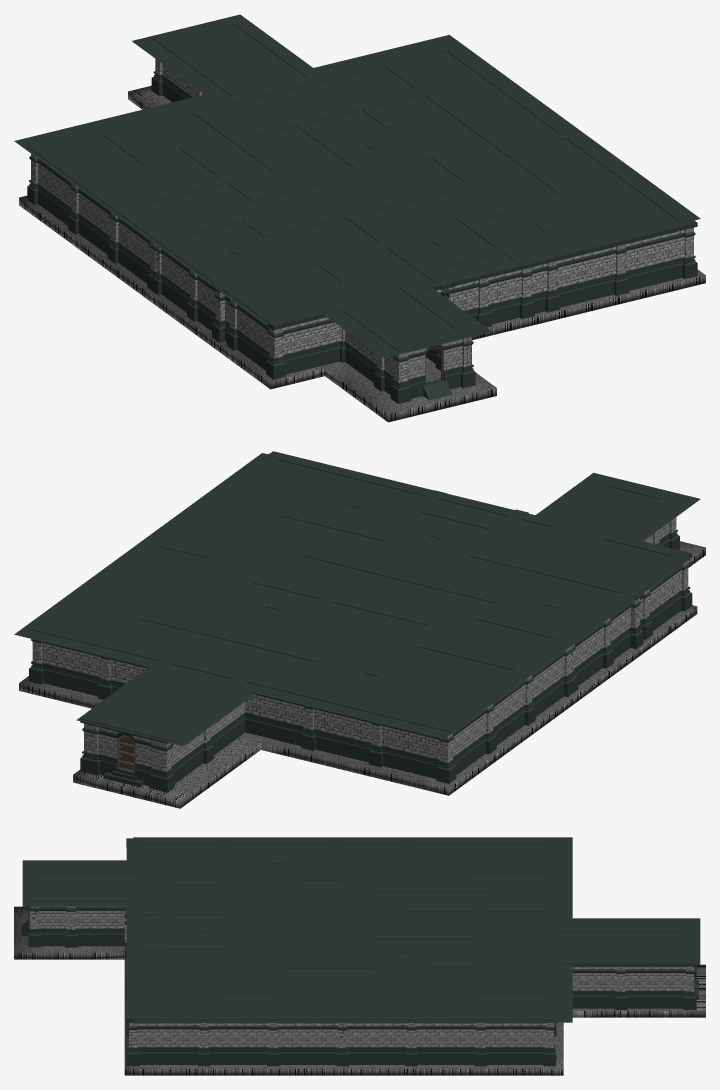
Rendered from Maze_Level_1.fbx.
3 renders of one model, top to bottom at view 1: azimuth 30°, elevation 25°; view 2: azimuth 150°, elevation 25°; view 3: azimuth 270°, elevation 25°, orthographic. The views are drawn at different scales.
Parts seen in each view (by area): view 1: Level_01_top, Level_01, Level_01_floor; view 2: Level_01_top, Level_01, Level_01_floor, Door; view 3: Level_01_top, Level_01, Level_01_floor.
Part boxes in pixels (x1,y1,x2,y2): Level_01_top: [14, 14, 700, 357]; Level_01: [27, 16, 697, 403]; Level_01_floor: [19, 85, 705, 422]; Level_01_top: [14, 453, 700, 746]; Level_01: [29, 451, 692, 792]; Level_01_floor: [19, 541, 705, 808]; Door: [118, 735, 134, 771]; Level_01_top: [22, 837, 700, 1022]; Level_01: [21, 837, 698, 1066]; Level_01_floor: [14, 906, 705, 1075].
Size of the model in its own units: 2540 by 342 by 4002.
